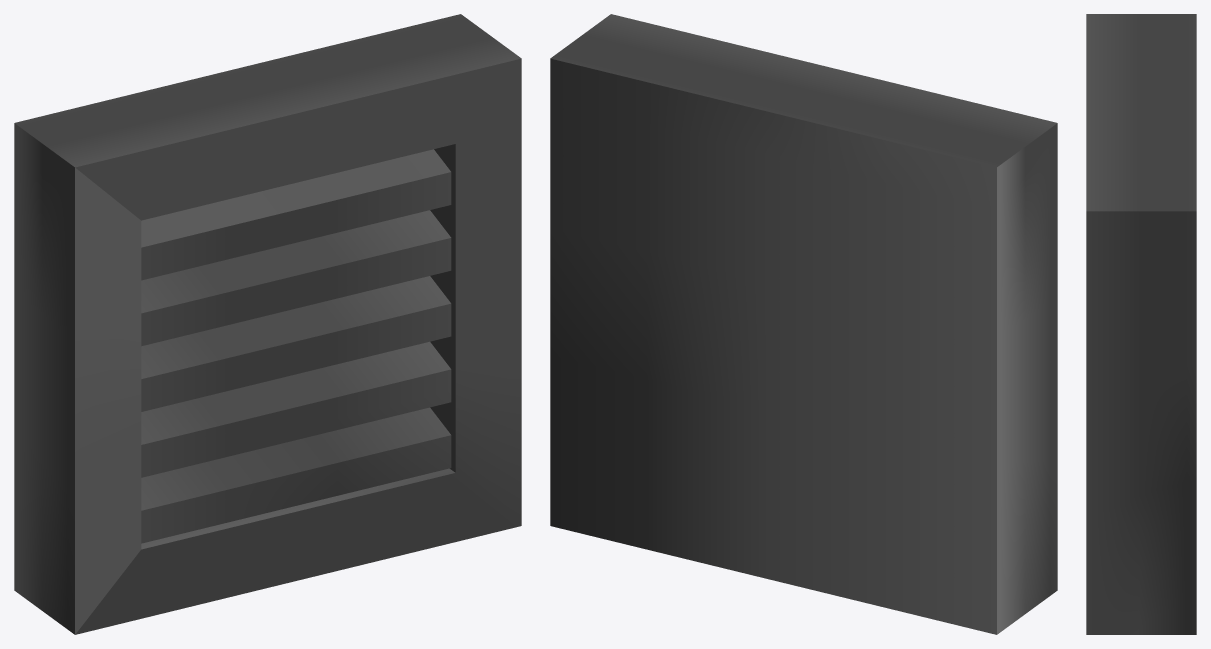
The model's file is Vent.fbx.
3 views of the same model, side by side, from view 1: azimuth 30°, elevation 25°; view 2: azimuth 150°, elevation 25°; view 3: azimuth 270°, elevation 25° (orthographic). The views are drawn at different scales.
Visible parts, largest first — view 1: Cube.043; view 2: Cube.043; view 3: Cube.043.
Part boxes in pixels (x1,y1,x2,y2): Cube.043: [14, 14, 521, 634]; Cube.043: [550, 14, 1057, 634]; Cube.043: [1086, 14, 1196, 634].
Bounding box in the file's own units: 46.91 × 46.91 × 11.07.
